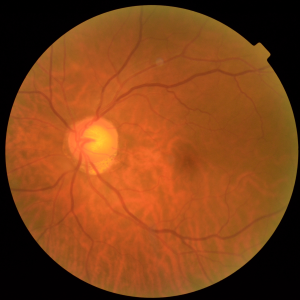glaucoma: (37, 99, 233, 220)
